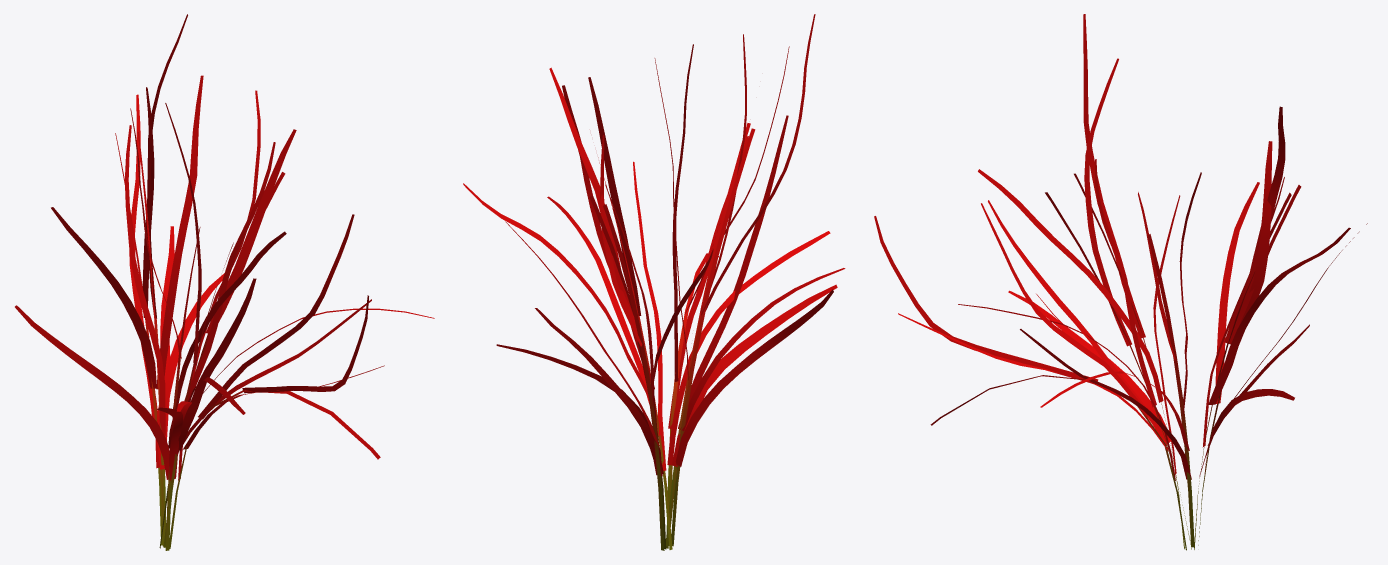
The model's file is Var17_LOD0.fbx.
3 renders of one model, left to right at view 1: azimuth 30°, elevation 25°; view 2: azimuth 150°, elevation 25°; view 3: azimuth 270°, elevation 25°, orthographic. The views are drawn at different scales.
Visible parts, largest first — view 1: _fech_Var17_LOD0; view 2: _fech_Var17_LOD0; view 3: _fech_Var17_LOD0.
Part boxes in pixels (x1=…): _fech_Var17_LOD0: x1=15, y1=14, x2=434, y2=550; _fech_Var17_LOD0: x1=463, y1=14, x2=845, y2=550; _fech_Var17_LOD0: x1=874, y1=14, x2=1367, y2=550.
Bounding box in the file's own units: 10.98 × 15.04 × 13.83.
